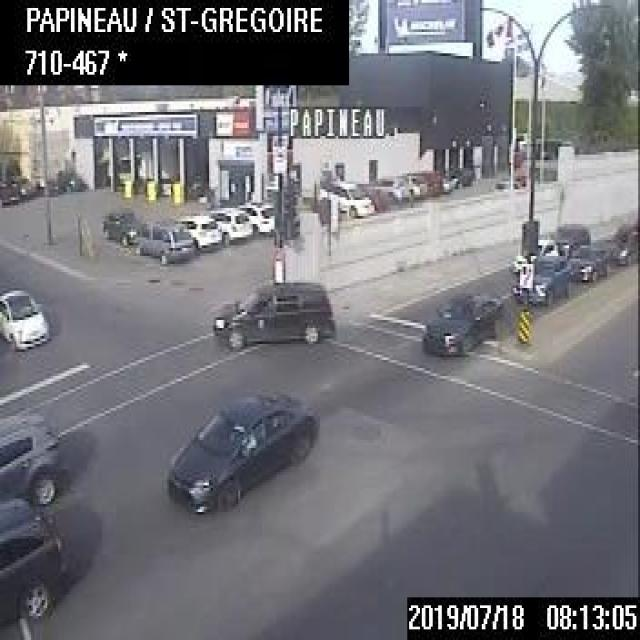vehicle: (168, 389, 318, 512), (0, 496, 64, 632), (209, 280, 333, 348), (417, 286, 508, 358), (0, 407, 62, 505), (0, 285, 47, 349), (511, 254, 570, 304), (132, 217, 193, 263), (317, 176, 372, 215), (567, 240, 608, 280), (512, 235, 556, 271), (180, 211, 220, 250), (214, 204, 252, 243), (606, 221, 638, 266), (100, 206, 136, 245), (552, 220, 592, 253), (241, 198, 275, 236), (372, 173, 408, 200), (401, 172, 424, 198), (55, 168, 81, 190), (9, 174, 33, 197), (0, 176, 16, 202)
